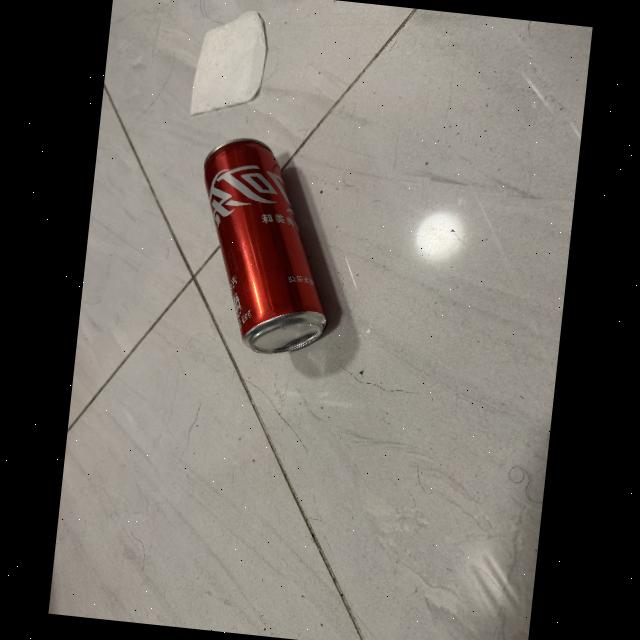Cola: (176, 121, 367, 370)
